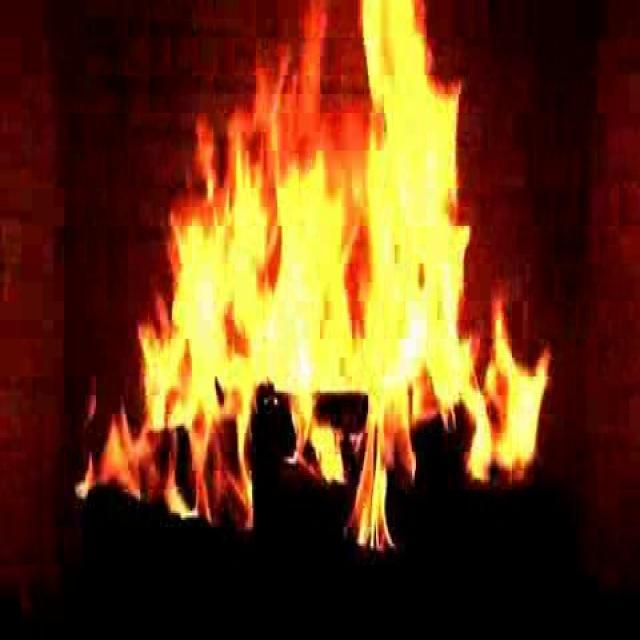Fire: (132, 34, 515, 528)
